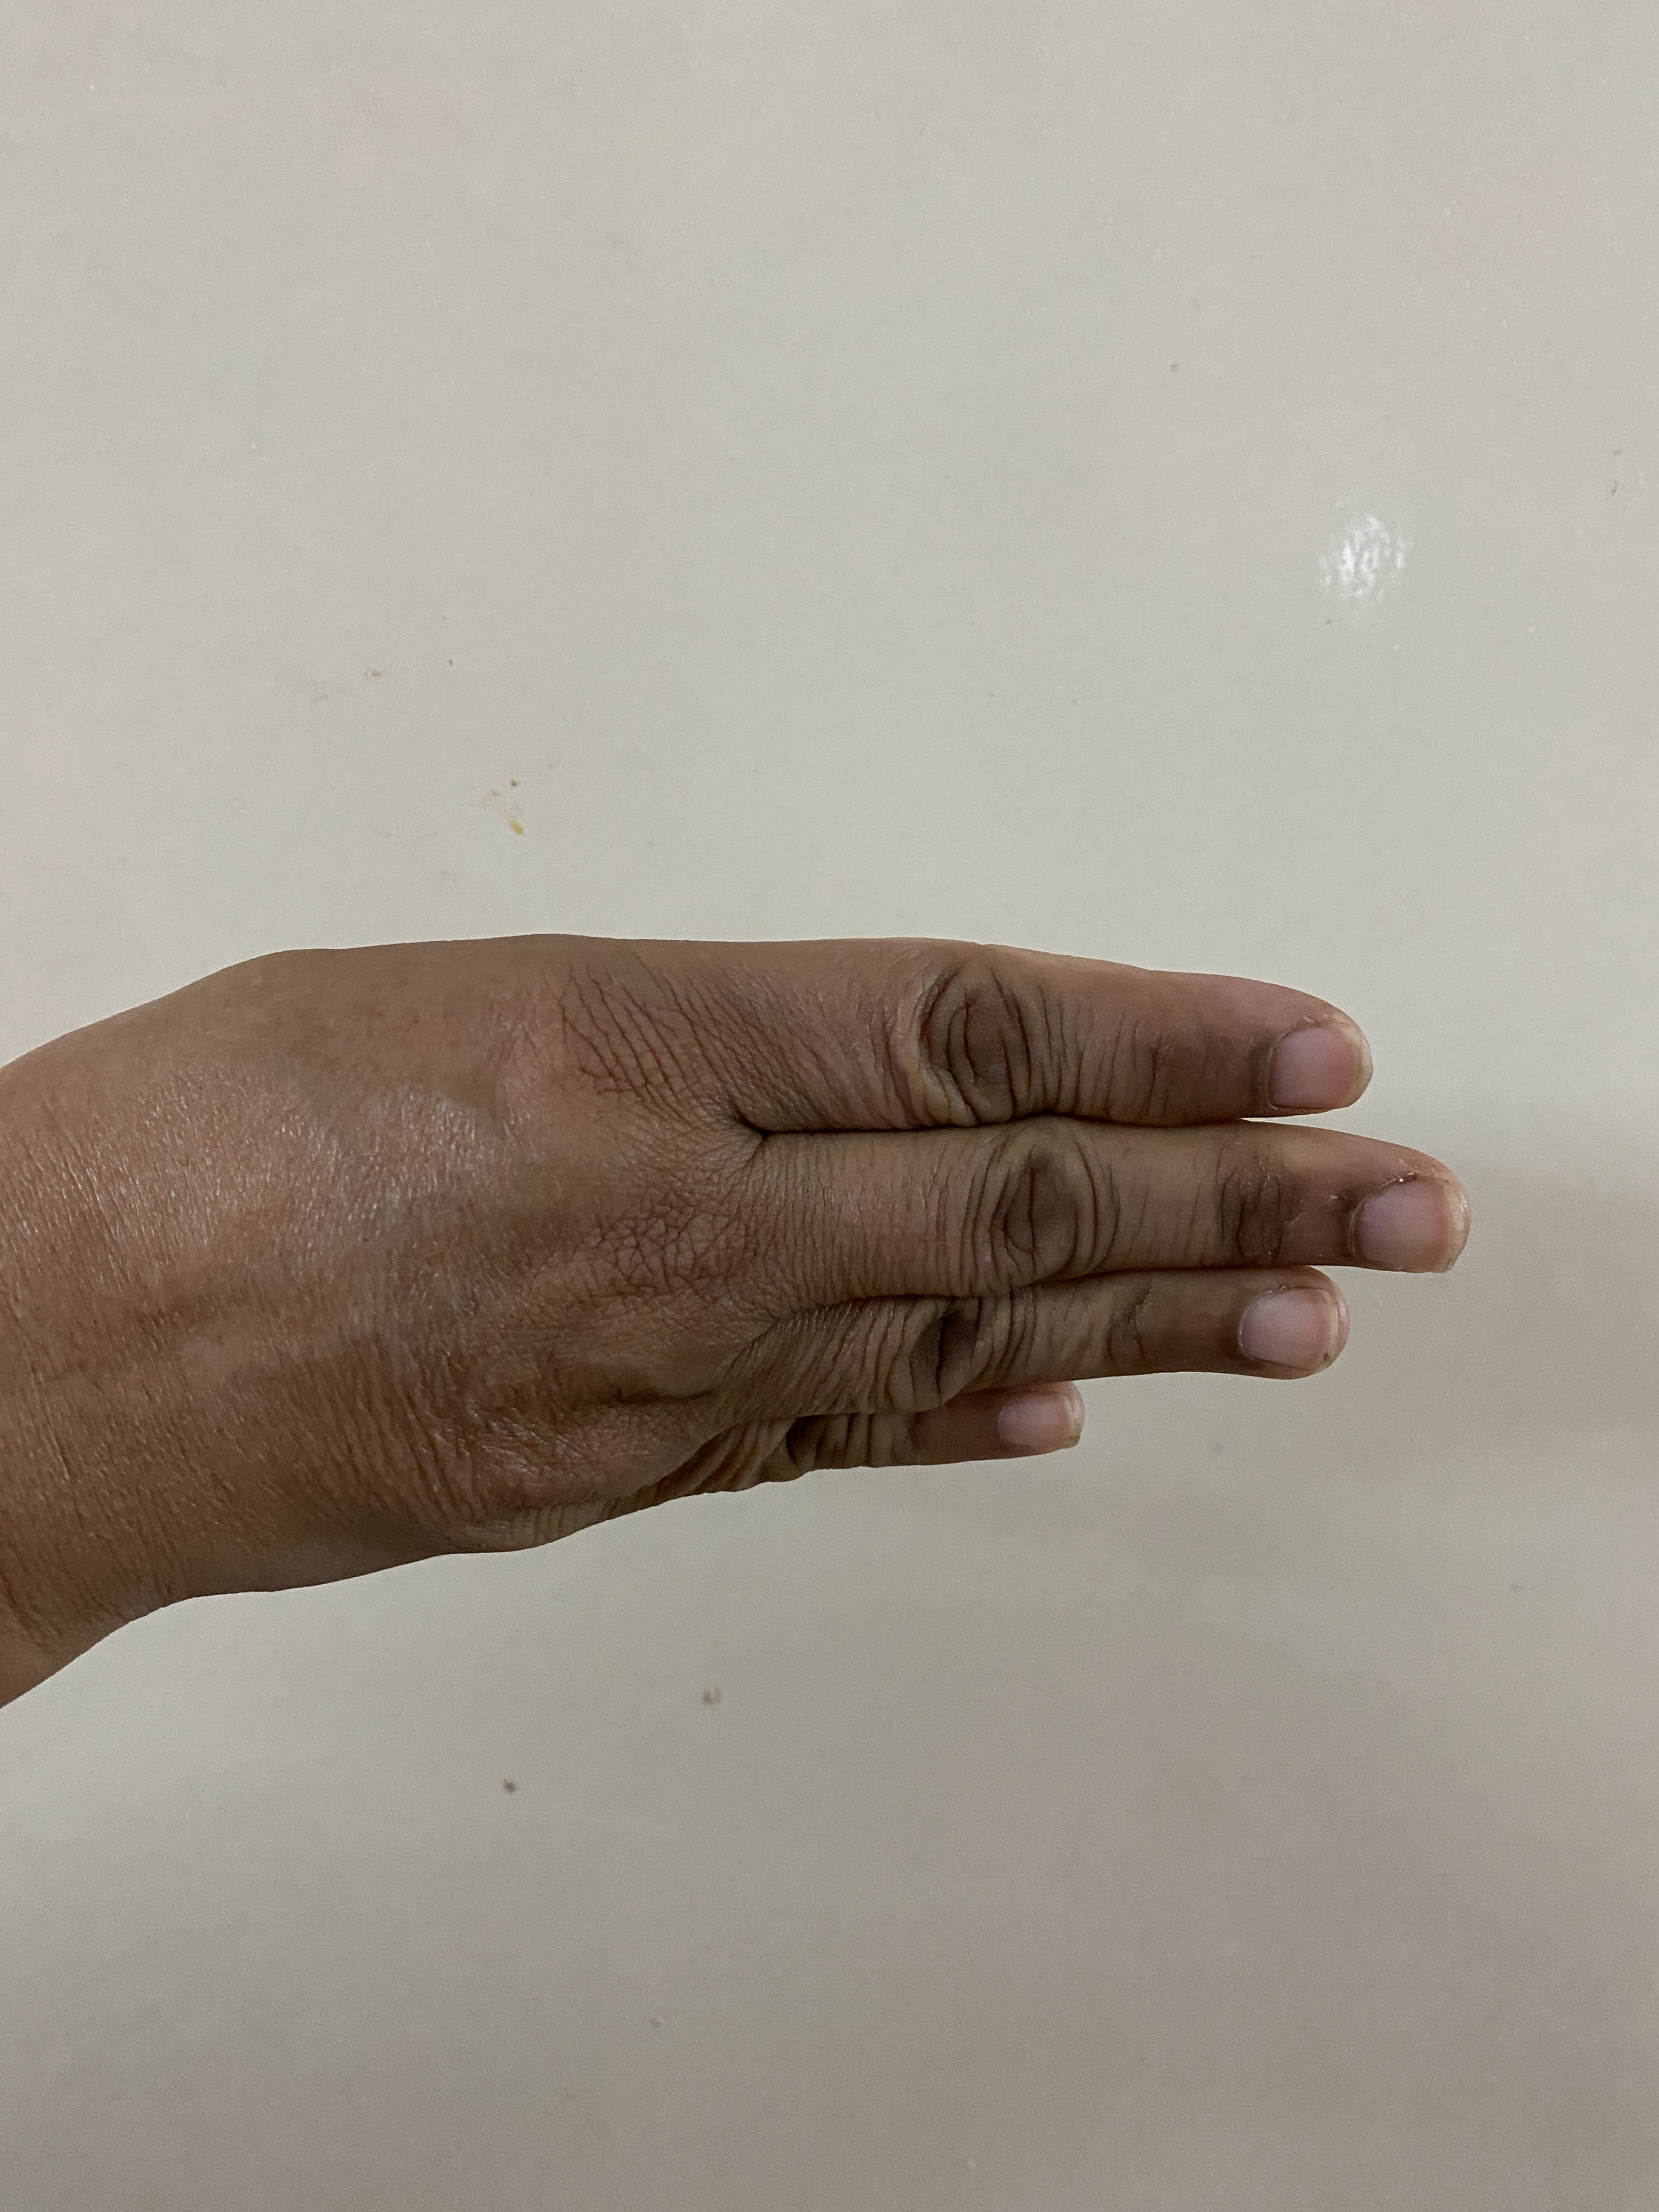left: (7, 836, 1495, 1855)
